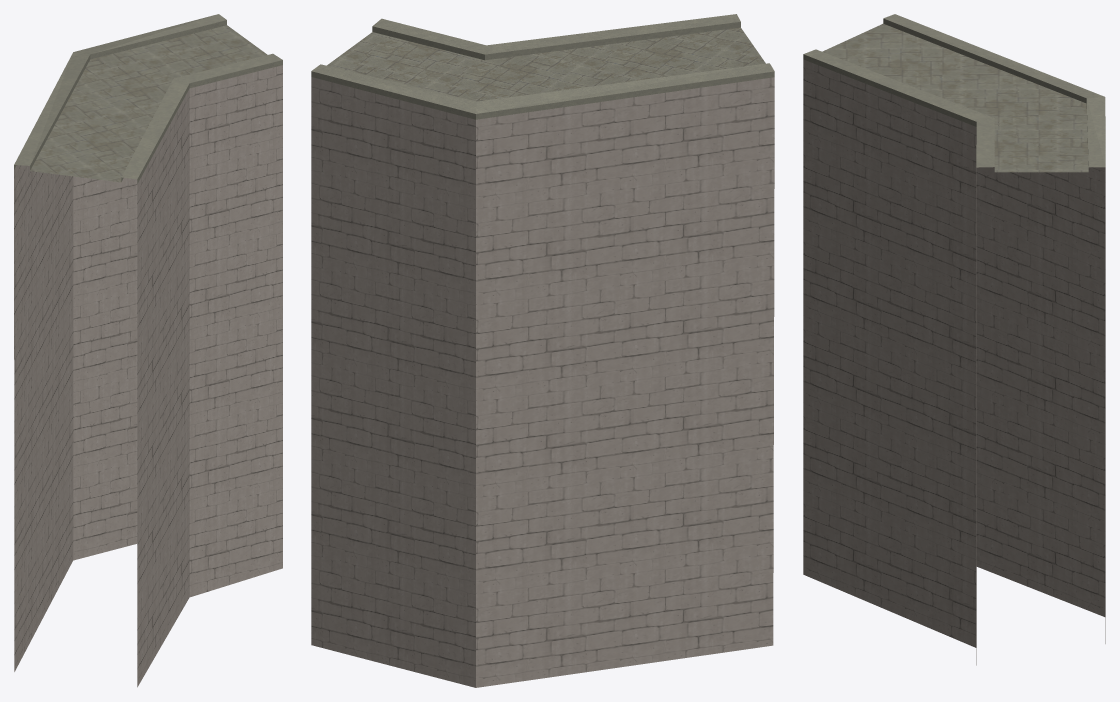
File: AD_Ground_Q_01.fbx
3 renders of one model, left to right at view 1: azimuth 30°, elevation 25°; view 2: azimuth 150°, elevation 25°; view 3: azimuth 270°, elevation 25°, orthographic. The views are drawn at different scales.
Visible parts, largest first — view 1: AD_Ground_Q_01; view 2: AD_Ground_Q_01; view 3: AD_Ground_Q_01.
Part boxes in pixels (x1,y1,x2,y2): AD_Ground_Q_01: [14, 14, 282, 687]; AD_Ground_Q_01: [311, 14, 774, 687]; AD_Ground_Q_01: [803, 14, 1105, 665].
Size of the model in its own units: 3787 by 6040 by 3140.
Materials: 3 (3 with a texture image).
